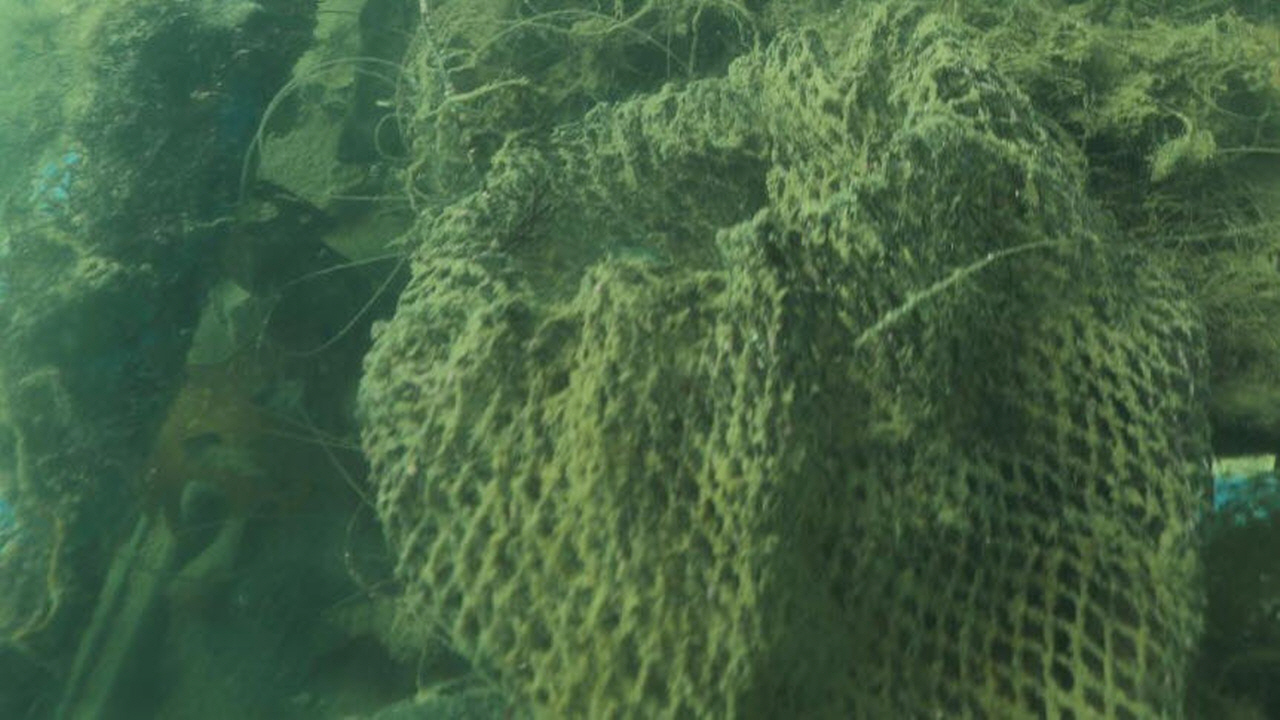fish net: (358, 15, 1209, 719)
